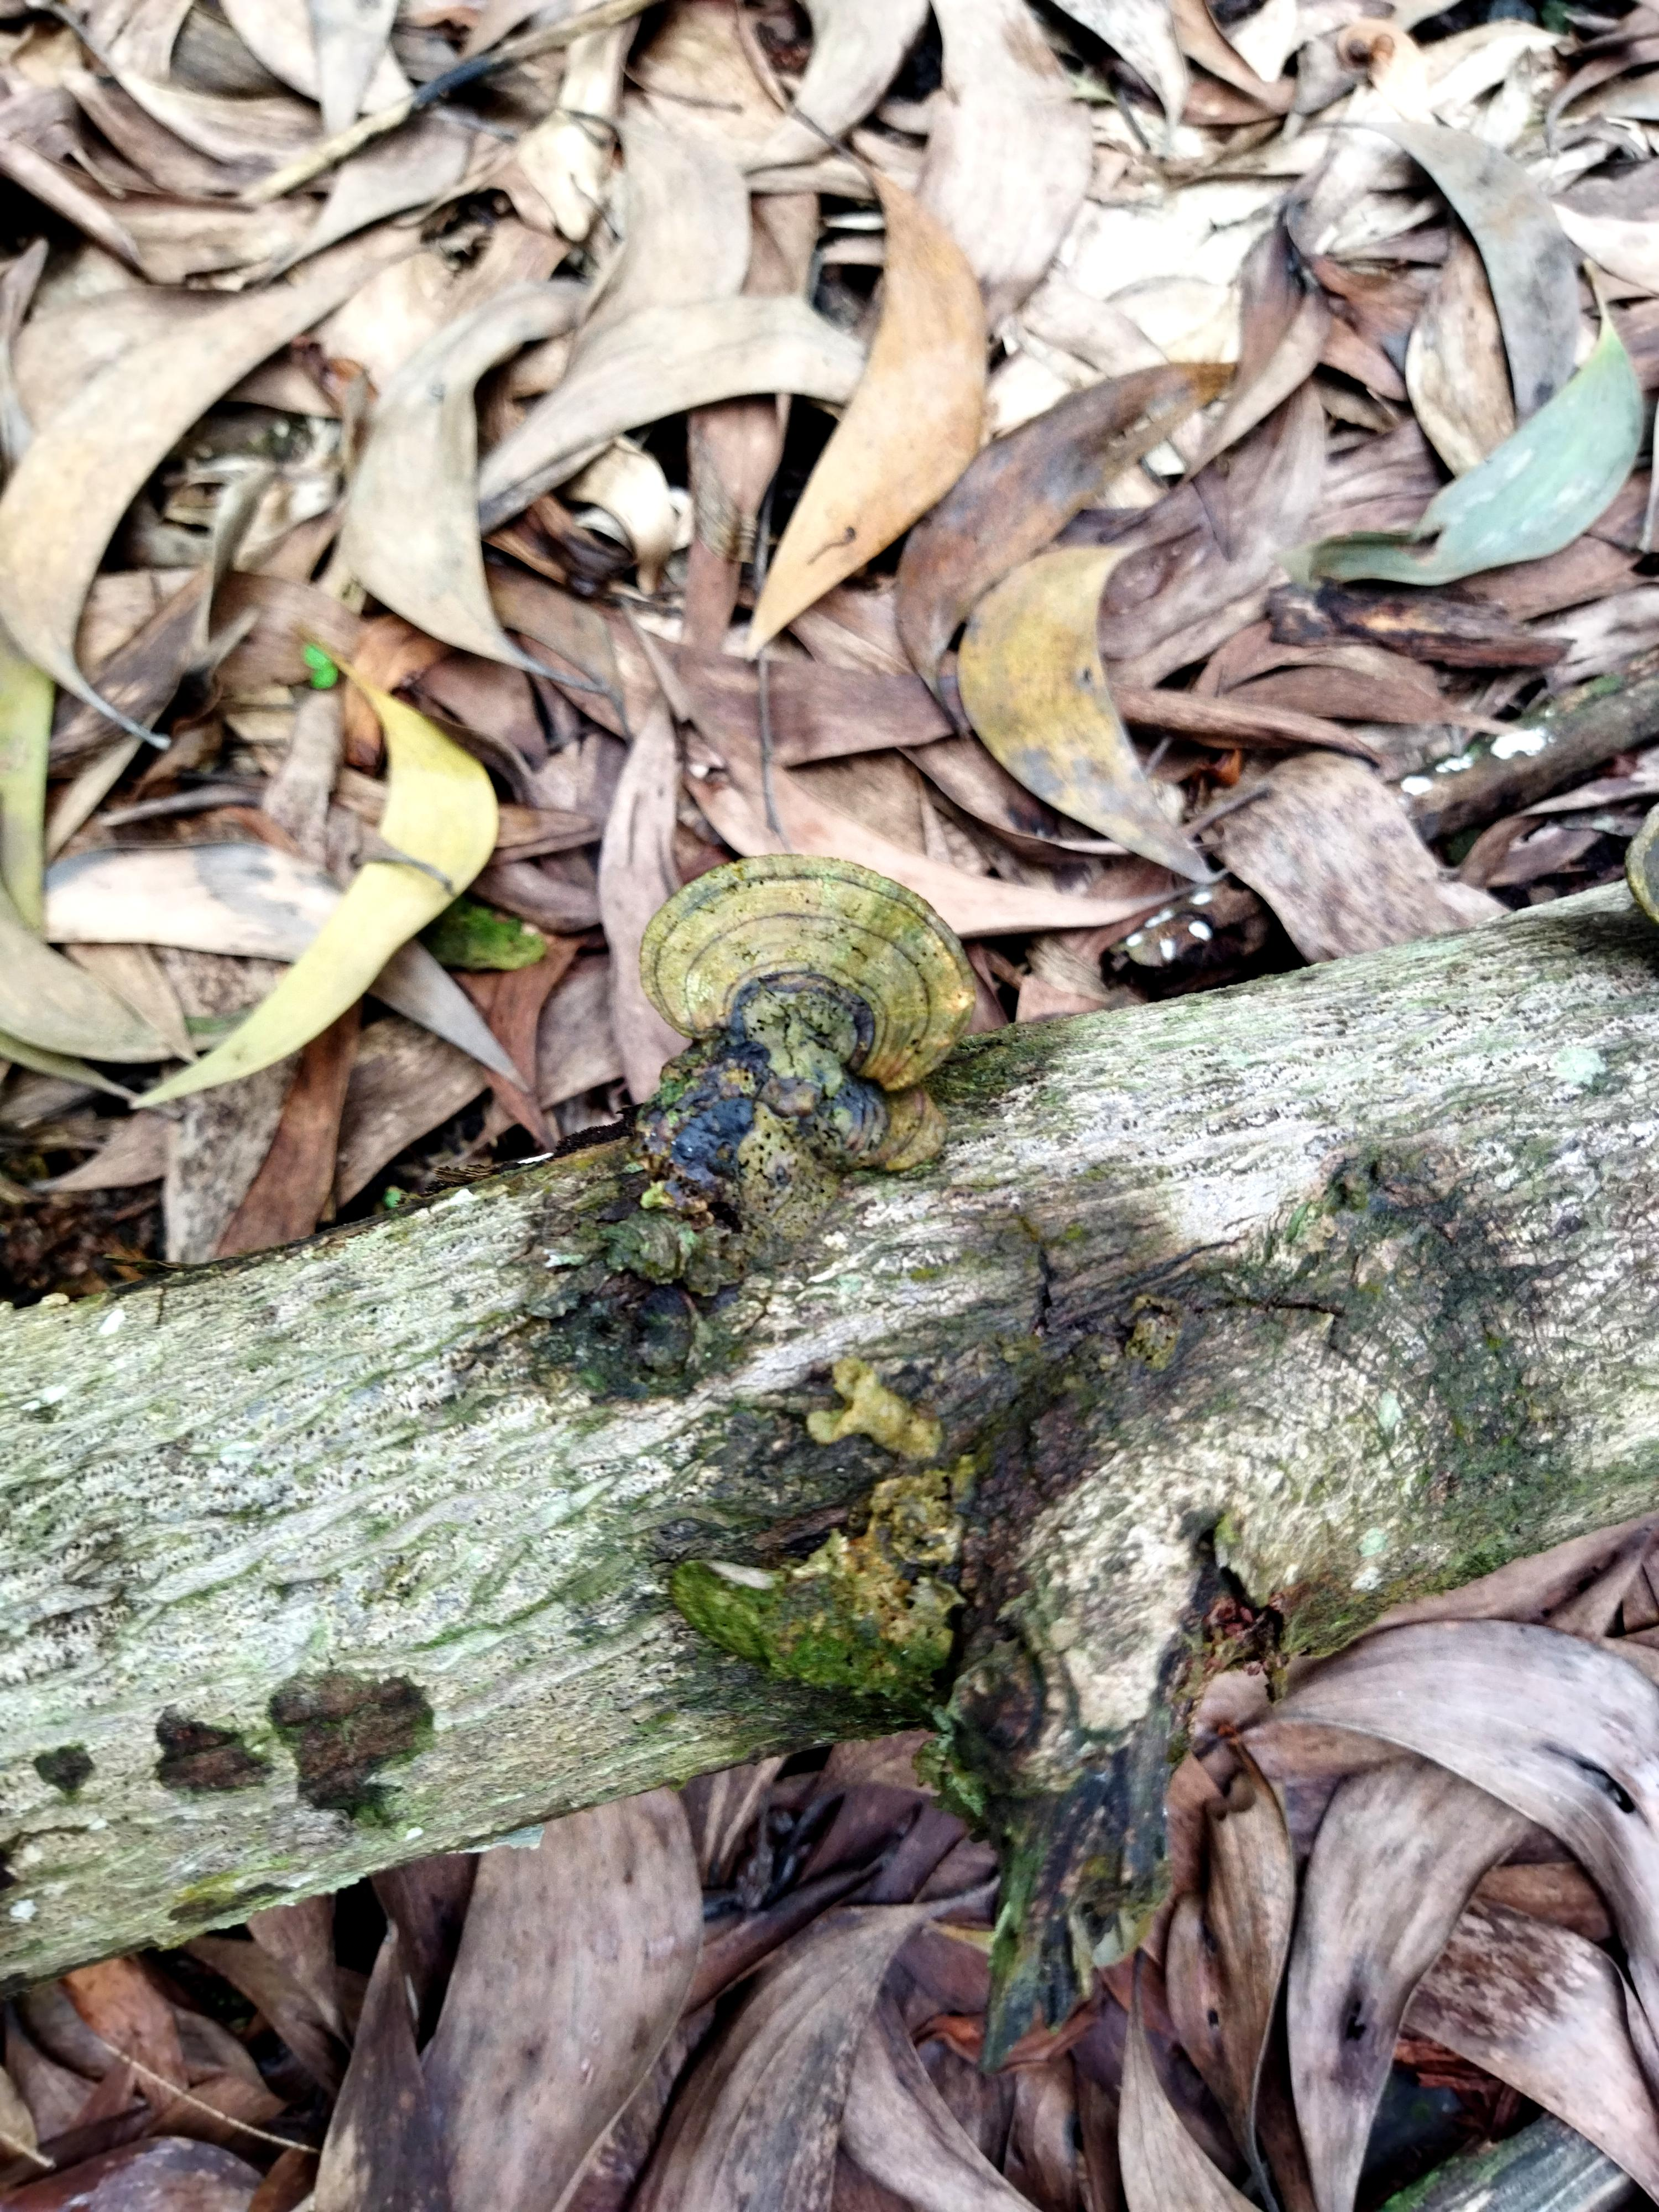Ganoderma - Fruit Body: (648, 853, 988, 1111)
